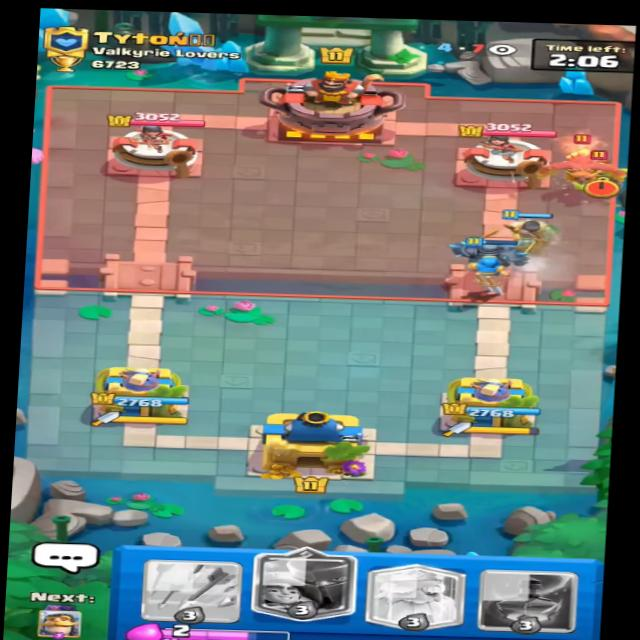goblin-demolisher: (571, 159, 631, 195)
phoenix: (527, 137, 633, 187)
